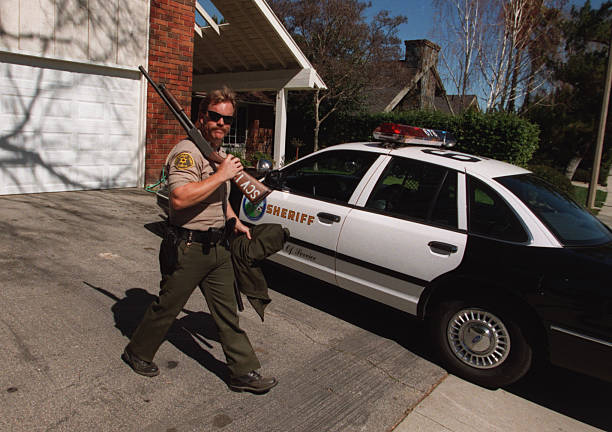shotgun: (150, 73, 212, 160)
